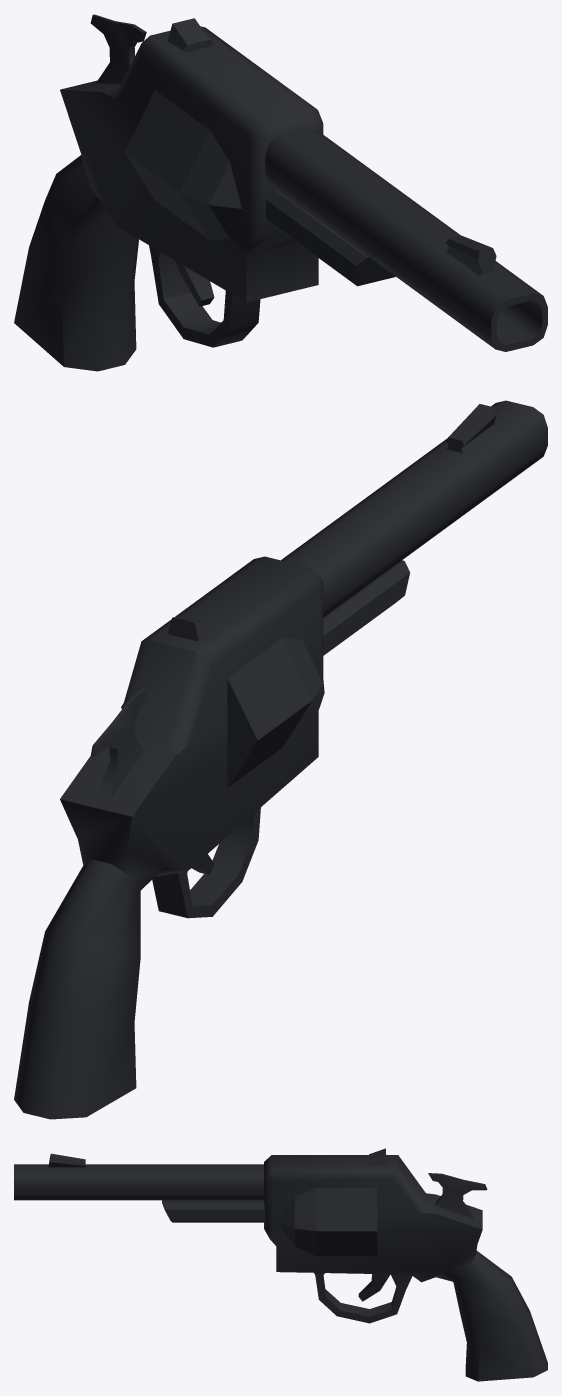
File: Gun.fbx
The picture shows the model from 3 angles, top to bottom: view 1: azimuth 30°, elevation 25°; view 2: azimuth 150°, elevation 25°; view 3: azimuth 270°, elevation 25°; orthographic projection. The views are drawn at different scales.
Visible parts, largest first — view 1: Plane; view 2: Plane; view 3: Plane.
Boxes of the visible parts, bbox=[...] form: Plane: bbox=[14, 14, 547, 371]; Plane: bbox=[14, 400, 547, 1119]; Plane: bbox=[14, 1148, 547, 1381].
Size of the model in its own units: 21.74 by 60.75 by 133.
